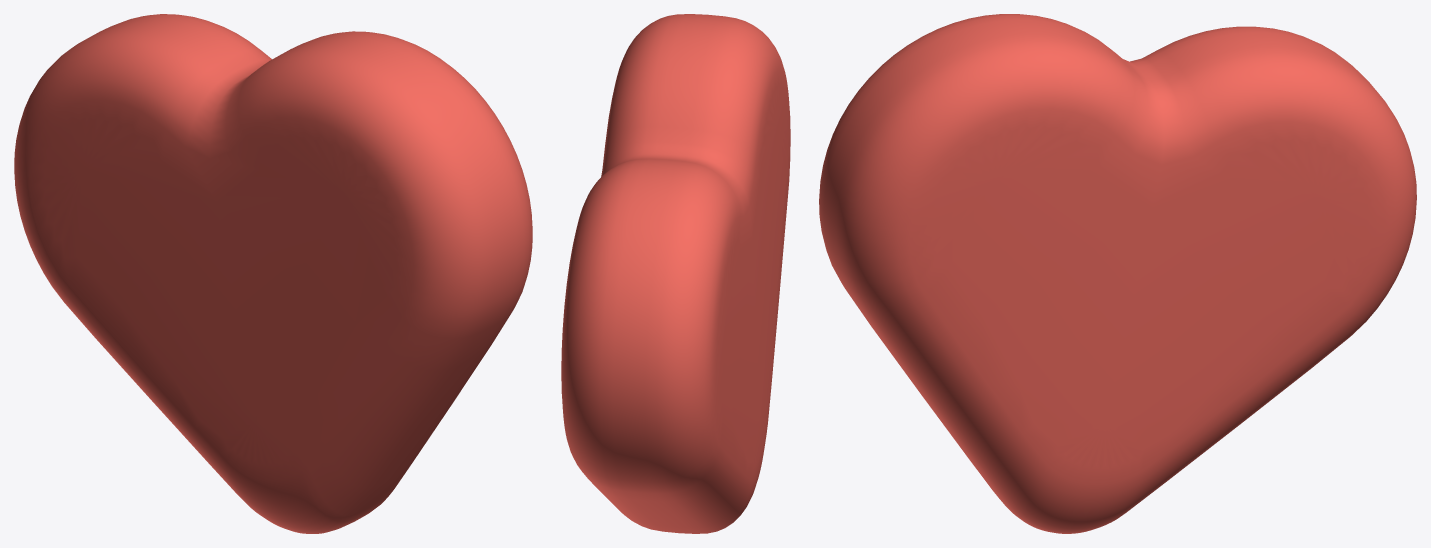
The model's file is heart.fbx.
3 renders of one model, left to right at view 1: azimuth 30°, elevation 25°; view 2: azimuth 150°, elevation 25°; view 3: azimuth 270°, elevation 25°, orthographic. The views are drawn at different scales.
Parts seen in each view (by area): view 1: Cube.125; view 2: Cube.125; view 3: Cube.125.
Boxes of the visible parts, left/top/right/bottom form: Cube.125: left=14, top=14, right=532, bottom=533; Cube.125: left=561, top=14, right=790, bottom=533; Cube.125: left=819, top=14, right=1416, bottom=533.
Size of the model in its own units: 4.39 by 2.47 by 4.08.
